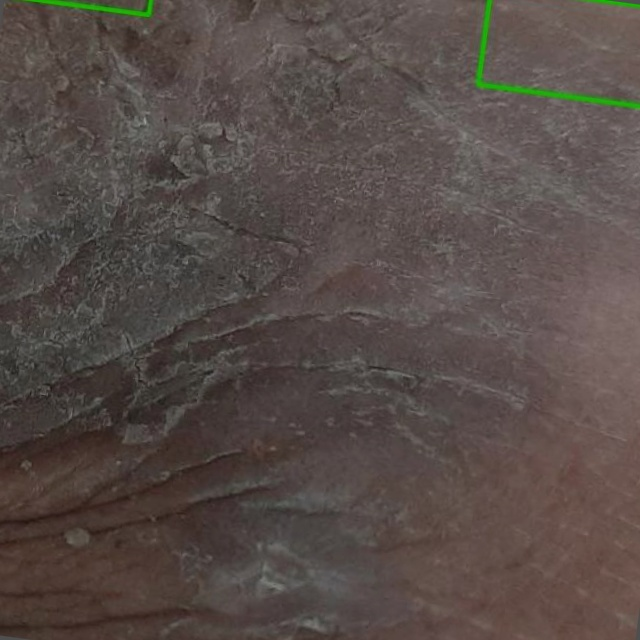Eczema: (478, 0, 639, 106)
